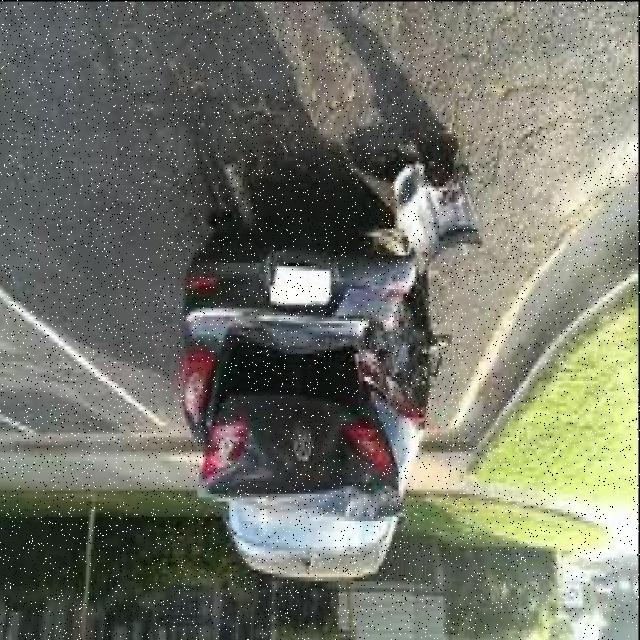damage: (200, 148, 479, 522)
